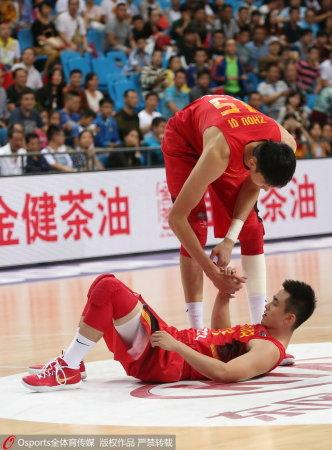bending: (161, 91, 302, 337)
down: (6, 273, 317, 387)
